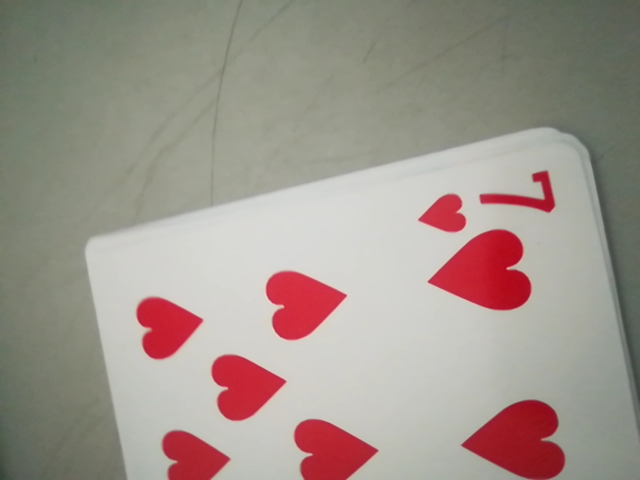hx 7: (416, 164, 567, 237)
